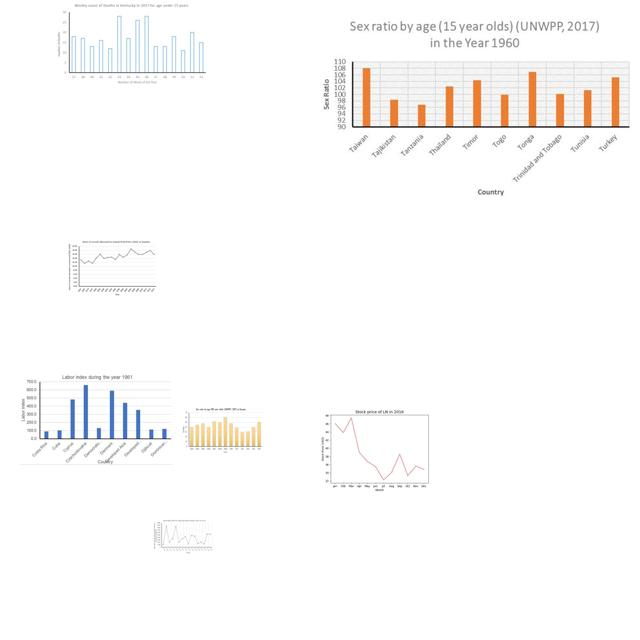Graph: (314, 13, 632, 200), (20, 373, 173, 465), (54, 1, 209, 88), (315, 401, 441, 496), (67, 239, 158, 296), (181, 407, 263, 454), (153, 519, 213, 554)
